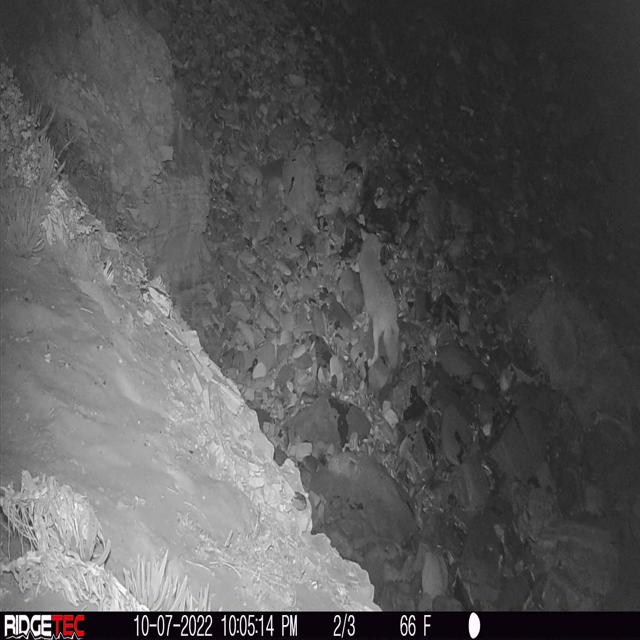coyote: (356, 232, 400, 370)
